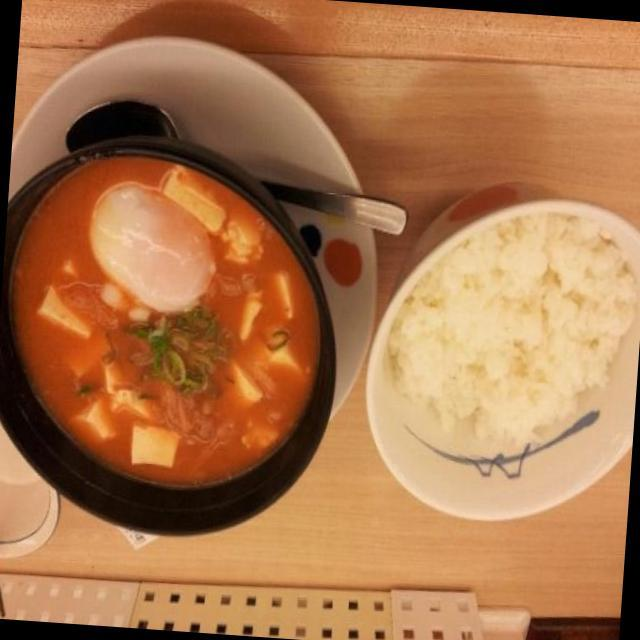Rice: (402, 192, 622, 468)
